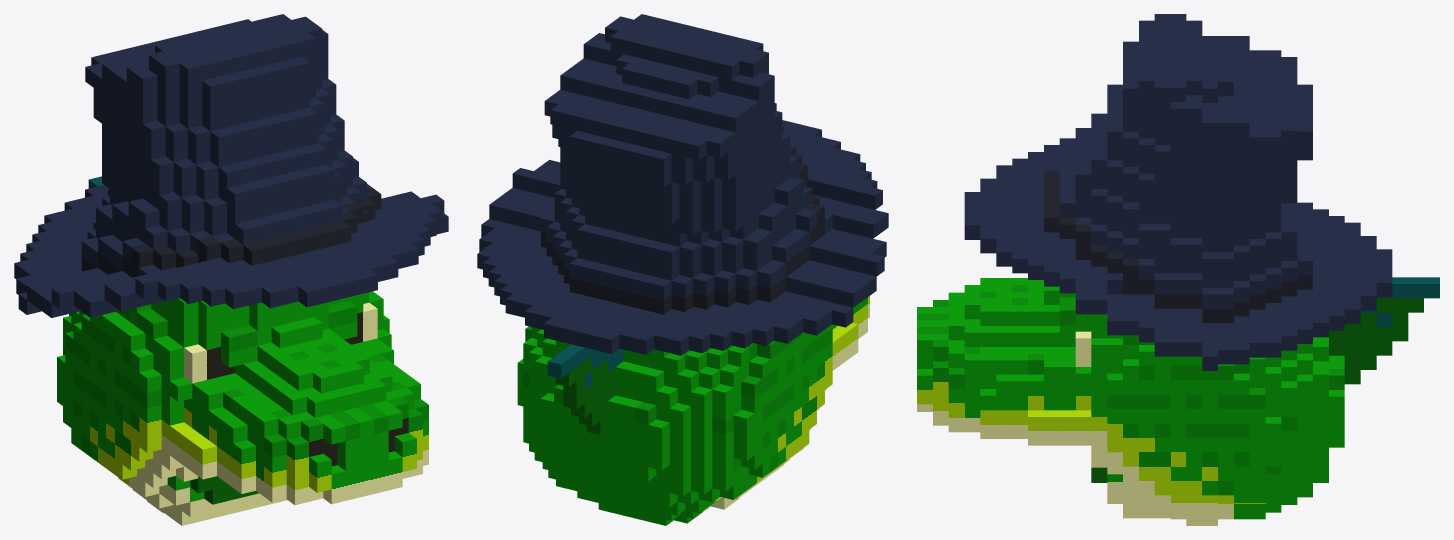
File: top hat_red glasses.gltf
3 renders of one model, left to right at view 1: azimuth 30°, elevation 25°; view 2: azimuth 150°, elevation 25°; view 3: azimuth 270°, elevation 25°, orthographic. The views are drawn at different scales.
Parts seen in each view (by area): view 1: C54_H_TopH_RedG_RBSpec_SkyD_LazerL-Mesh; view 2: C54_H_TopH_RedG_RBSpec_SkyD_LazerL-Mesh; view 3: C54_H_TopH_RedG_RBSpec_SkyD_LazerL-Mesh.
Boxes of the visible parts, x1,y1,x2,y2 form: C54_H_TopH_RedG_RBSpec_SkyD_LazerL-Mesh: (14,14,448,525); C54_H_TopH_RedG_RBSpec_SkyD_LazerL-Mesh: (477,14,888,525); C54_H_TopH_RedG_RBSpec_SkyD_LazerL-Mesh: (917,14,1439,525).
Bounding box in the file's own units: 27 × 31 × 33.
Materials: 1 (1 with a texture image).
